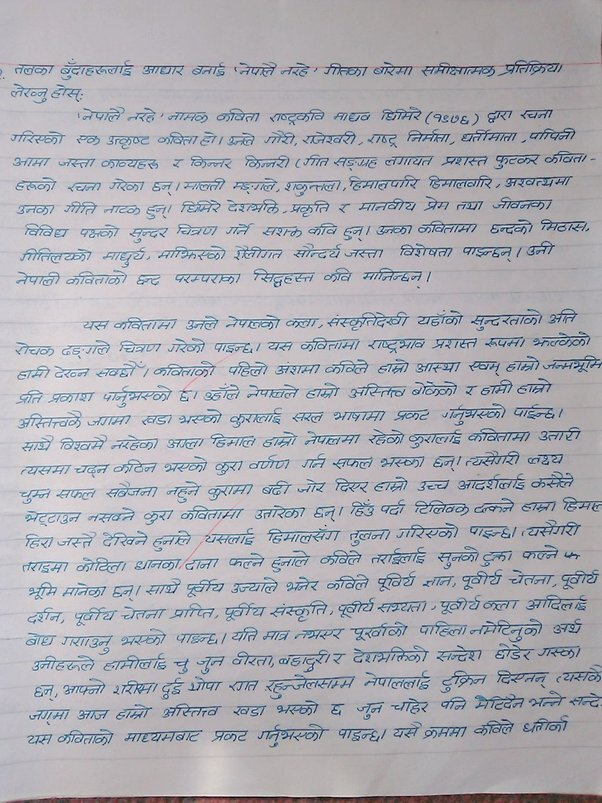text: (262, 672, 357, 701), (255, 720, 329, 749), (469, 616, 545, 644), (57, 58, 138, 82), (7, 80, 85, 104), (360, 669, 434, 694), (263, 523, 340, 547), (471, 307, 545, 331), (101, 384, 174, 408), (16, 409, 86, 433), (439, 402, 509, 426), (268, 598, 330, 625), (249, 266, 317, 290), (361, 266, 426, 291), (350, 645, 431, 665), (18, 246, 95, 267), (346, 173, 422, 194), (326, 311, 410, 330), (524, 591, 590, 615), (122, 728, 205, 747), (30, 652, 98, 675), (156, 244, 227, 266), (520, 517, 585, 541), (276, 646, 332, 673), (395, 520, 460, 543), (455, 473, 529, 493), (410, 496, 473, 519), (500, 57, 567, 78), (420, 61, 498, 79), (157, 702, 223, 723), (241, 381, 301, 404), (101, 655, 170, 675), (152, 359, 217, 380), (348, 620, 410, 642), (371, 544, 430, 567), (492, 668, 551, 691), (103, 480, 161, 503), (59, 632, 117, 655), (491, 194, 557, 214), (467, 426, 533, 446), (172, 270, 244, 288), (115, 626, 169, 650), (471, 691, 527, 714), (56, 728, 117, 749), (425, 174, 496, 192), (408, 428, 466, 450), (297, 336, 364, 355), (542, 354, 602, 375), (463, 450, 523, 471), (530, 331, 596, 350), (73, 555, 130, 577), (439, 669, 489, 694), (519, 715, 573, 738), (268, 106, 327, 127), (224, 312, 283, 333), (18, 220, 74, 242), (558, 491, 602, 519), (112, 314, 180, 332), (435, 544, 482, 570), (59, 337, 112, 360), (415, 619, 470, 641), (302, 429, 362, 449), (101, 526, 149, 551), (66, 268, 129, 287), (228, 407, 285, 428), (203, 526, 257, 548), (558, 567, 602, 594), (330, 405, 389, 425), (433, 643, 484, 666), (395, 241, 456, 260), (281, 179, 345, 197), (60, 676, 108, 700), (554, 664, 602, 688), (460, 568, 506, 593), (472, 716, 518, 741), (93, 361, 145, 383), (348, 382, 408, 401), (416, 219, 479, 237), (459, 243, 513, 264), (184, 574, 226, 601), (376, 597, 430, 618), (373, 569, 420, 593), (291, 624, 347, 644), (152, 528, 195, 554), (269, 549, 312, 575), (365, 336, 427, 354), (408, 380, 461, 401), (7, 129, 68, 147), (357, 197, 418, 215), (232, 243, 284, 264), (508, 568, 555, 591), (504, 174, 576, 189), (110, 456, 159, 478), (180, 505, 247, 521), (23, 508, 82, 526), (107, 434, 160, 454), (101, 245, 147, 268), (491, 641, 535, 665), (491, 151, 543, 171), (537, 215, 589, 235), (58, 434, 110, 454), (229, 576, 281, 596), (272, 699, 324, 719), (72, 604, 117, 627), (223, 600, 268, 623), (404, 126, 451, 148), (325, 573, 372, 595), (416, 309, 467, 329), (132, 555, 183, 575), (314, 548, 365, 568), (117, 604, 168, 624), (236, 59, 280, 82), (511, 401, 557, 423), (230, 648, 276, 670), (301, 130, 357, 148), (347, 526, 395, 547), (112, 677, 160, 698), (321, 60, 371, 80), (378, 451, 428, 471), (225, 198, 280, 216), (10, 339, 55, 361), (17, 461, 72, 479), (17, 558, 72, 576), (388, 694, 433, 716), (335, 596, 378, 619), (335, 725, 382, 746), (459, 128, 517, 145), (23, 604, 64, 628), (160, 456, 209, 476), (60, 581, 109, 601), (98, 157, 163, 172), (165, 479, 204, 504), (254, 504, 308, 522), (439, 152, 490, 171), (291, 243, 342, 262), (536, 425, 587, 444), (473, 496, 517, 518), (56, 530, 100, 552), (246, 454, 292, 475), (27, 706, 73, 727), (526, 126, 579, 144), (430, 335, 483, 353), (375, 105, 425, 124), (207, 431, 257, 450), (534, 643, 584, 662), (438, 593, 481, 615), (283, 573, 324, 596), (113, 702, 154, 725), (140, 61, 187, 81), (12, 175, 59, 195), (206, 481, 253, 501), (528, 470, 575, 490), (466, 521, 513, 541), (169, 602, 216, 622), (173, 628, 220, 648), (86, 506, 138, 524), (115, 338, 164, 357), (273, 361, 322, 380), (421, 723, 470, 742), (226, 359, 270, 380), (527, 690, 569, 712), (106, 132, 152, 152), (11, 270, 62, 288), (414, 358, 465, 376), (201, 383, 242, 405), (370, 60, 415, 80), (214, 107, 264, 125), (304, 380, 343, 403), (332, 153, 381, 171), (78, 222, 122, 242), (165, 106, 211, 125), (323, 358, 369, 377), (242, 154, 293, 171), (186, 154, 234, 172), (190, 60, 231, 81), (521, 543, 562, 564), (515, 376, 554, 398), (81, 104, 126, 123), (544, 148, 589, 167), (488, 218, 535, 236), (144, 578, 182, 600), (178, 408, 224, 426), (25, 579, 61, 602), (332, 475, 371, 496), (288, 199, 331, 218), (230, 177, 278, 194), (86, 412, 134, 429), (390, 720, 424, 744), (186, 675, 223, 697), (382, 153, 436, 168), (179, 199, 224, 217), (211, 339, 256, 357), (330, 455, 375, 473), (21, 529, 56, 552), (502, 354, 542, 374), (47, 391, 97, 407), (73, 459, 111, 480), (210, 727, 252, 746), (12, 60, 56, 78), (547, 305, 580, 329), (342, 245, 388, 262), (168, 336, 207, 356), (367, 427, 406, 447), (517, 497, 558, 516), (227, 551, 268, 570), (184, 313, 221, 334), (480, 378, 517, 399), (157, 130, 200, 148), (127, 227, 170, 245), (261, 223, 304, 241), (479, 546, 514, 568), (421, 571, 456, 593), (567, 690, 602, 712), (175, 222, 220, 239), (432, 110, 472, 129), (279, 59, 312, 82), (226, 675, 262, 696), (182, 554, 221, 573), (21, 630, 58, 650), (331, 108, 372, 126), (517, 105, 558, 123), (56, 154, 97, 172), (102, 201, 143, 219), (164, 434, 205, 452), (157, 676, 189, 699), (105, 177, 148, 194), (184, 177, 227, 194), (228, 624, 261, 646), (195, 654, 228, 676), (262, 430, 300, 449), (14, 363, 50, 383), (19, 435, 55, 455), (524, 451, 569, 467), (54, 487, 99, 503), (16, 486, 53, 505), (108, 579, 137, 603), (467, 356, 500, 377), (347, 497, 377, 520), (485, 334, 528, 350), (372, 476, 410, 494), (52, 363, 92, 380), (421, 195, 453, 216), (228, 703, 270, 719), (260, 129, 297, 147), (76, 706, 113, 724), (366, 132, 401, 151), (141, 507, 176, 526), (61, 200, 100, 217), (482, 597, 521, 614), (125, 106, 158, 126), (322, 266, 355, 286), (261, 479, 294, 499), (356, 700, 386, 722), (378, 498, 409, 519), (28, 681, 56, 704), (392, 408, 432, 424), (415, 478, 455, 494), (260, 627, 292, 647), (526, 240, 556, 261), (375, 358, 412, 375), (436, 695, 470, 713), (10, 155, 53, 169), (14, 203, 57, 217), (454, 197, 487, 215), (306, 222, 339, 240), (14, 388, 45, 407), (65, 180, 104, 195), (285, 314, 319, 331), (23, 732, 57, 749), (296, 478, 327, 496), (289, 410, 326, 425), (375, 223, 414, 237), (311, 503, 337, 524), (213, 458, 247, 474), (140, 413, 176, 428), (341, 223, 366, 244), (484, 108, 516, 124), (132, 272, 164, 288), (79, 316, 111, 332), (326, 700, 350, 721), (226, 131, 257, 147), (225, 221, 256, 237), (150, 179, 176, 198), (265, 338, 294, 355), (300, 453, 329, 470), (302, 153, 332, 169), (198, 128, 219, 149), (432, 454, 456, 471), (74, 133, 103, 147), (145, 203, 168, 220), (175, 387, 193, 406), (329, 651, 348, 668), (463, 383, 479, 400), (335, 201, 353, 216), (168, 157, 187, 170)
